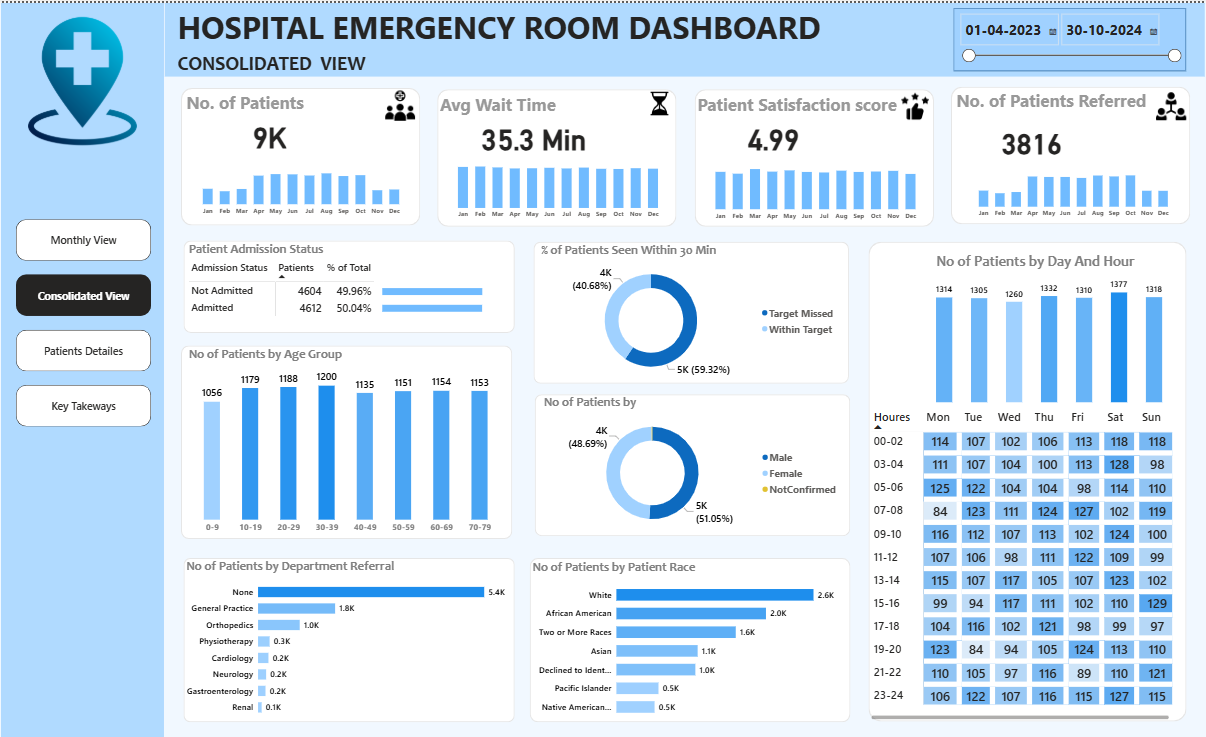

The dashboard page shown, as its layout file describes it:
{"tool":"powerbi","page":{"name":"Consolidated View","canvas":[2300,1400],"ordinal":1},"visuals":[{"type":"shape","box":[9.9,0,310,1400.5],"z":0},{"type":"shape","box":[321,0,1978.3,140.3],"z":1000},{"type":"textbox","box":[340,0,1265,140.3],"z":2000},{"type":"textbox","box":[340,87.5,412.5,70],"z":3000},{"type":"slicer","fields":{"Values":["Date Table.Date"]},"box":[1822.5,10,442.5,120],"z":4000},{"type":"shape","box":[351.4,160.7,455,261.6],"z":5000},{"type":"cardVisual","fields":{"Data":["Hospital ER_Data.No of Patients"]},"box":[460,197.5,400,117.5],"z":6000},{"type":"textbox","box":[356.2,160.7,323.4,59.4],"z":7000},{"type":"columnChart","fields":{"Y":["Hospital ER_Data.No of Patients"],"Category":["Date Table.Month Name"]},"box":[375,282.5,410,130],"z":8000},{"type":"shape","box":[839.8,163.1,455,261.6],"z":9000},{"type":"textbox","box":[839.3,166.4,323.4,59.4],"z":10000},{"type":"columnChart","fields":{"Y":["Avg(Hospital ER_Data.Patient Waittime)"],"Category":["Date Table.Month Name"]},"box":[860,290,417.5,130],"z":11000},{"type":"shape","box":[1328.2,165,455,261.6],"z":12000},{"type":"textbox","box":[1330,167.5,452.5,57.5],"z":13000},{"type":"columnChart","fields":{"Category":["Date Table.Month Name"],"Y":["Hospital ER_Data.Satisfacton Score"]},"box":[1350,292.5,417.5,130],"z":14000},{"type":"shape","box":[1816.6,159.3,455,261.6],"z":15000},{"type":"textbox","box":[1821.3,159.3,385.2,59.4],"z":16000},{"type":"columnChart","fields":{"Y":["Hospital ER_Data.No of Patients Referred"],"Category":["Date Table.Month Name"]},"box":[1852.5,287.5,395,130],"z":17000},{"type":"cardVisual","fields":{"Data":["Hospital ER_Data.Avg Wait Time"]},"box":[895,215,735,92.5],"z":18000},{"type":"cardVisual","fields":{"Data":["Hospital ER_Data.Satisfacton Score"]},"box":[1400,207.5,452.5,105],"z":19000},{"type":"cardVisual","fields":{"Data":["Hospital ER_Data.No of Patients Referred"]},"box":[1890,177.5,407.5,175],"z":20000},{"type":"shape","box":[357.1,451.3,630.1,176],"z":21000},{"type":"pivotTable","title":"Patient Admission Status","fields":{"Rows":["Hospital ER_Data.Admission Status"],"Values":["Hospital ER_Data.No of Patients1","Hospital ER_Data.No of Patients"]},"box":[362.5,452.5,630,175],"z":22000},{"type":"barChart","fields":{"Category":["Hospital ER_Data.Admission Status"],"Y":["Hospital ER_Data.No of Patients"]},"box":[730,512.5,257.5,97.5],"z":23000},{"type":"shape","box":[352.5,652.5,630,368],"z":24000},{"type":"clusteredColumnChart","fields":{"Category":["Hospital ER_Data.Age Group"],"Y":["Hospital ER_Data.No of Patients"]},"box":[362.5,652.5,610,367.5],"z":25000},{"type":"shape","box":[357.5,1055,630,312.5],"z":26000},{"type":"clusteredBarChart","fields":{"Category":["Hospital ER_Data.Department Referral"],"Y":["Hospital ER_Data.No of Patients"]},"box":[357.5,1055,625,312.5],"z":27000},{"type":"shape","box":[1021.5,454.5,600,270],"z":28000},{"type":"donutChart","title":"% of Patients Seen Within 30 Min","fields":{"Category":["Hospital ER_Data.Waittime Status"],"Y":["Hospital ER_Data.No of Patients"]},"box":[1031.5,454.5,575,270],"z":29000},{"type":"shape","box":[1025.5,744.5,600,270],"z":30000},{"type":"donutChart","title":"No of Patients by ","fields":{"Y":["Hospital ER_Data.No of Patients"],"Category":["Hospital ER_Data.Patient Gender"]},"box":[1036.5,744.5,575,270],"z":31000},{"type":"shape","box":[1015,1055,610,312.5],"z":32000},{"type":"clusteredBarChart","fields":{"Y":["Hospital ER_Data.No of Patients"],"Category":["Hospital ER_Data.Patient Race"]},"box":[1015,1057.5,607.5,312.5],"z":33000},{"type":"shape","box":[1660,455,605,912.5],"z":34000},{"type":"pivotTable","fields":{"Columns":["Date Table.Day Name"],"Rows":["Hospital ER_Data.Waittime Interval"],"Values":["Hospital ER_Data.No of Patients"]},"box":[1660,765,582.5,602.5],"z":35000},{"type":"columnChart","title":"No of Patients by Day And Hour","fields":{"Category":["Date Table.Day Name"],"Y":["Hospital ER_Data.No of Patients"]},"box":[1782.5,472.5,442.5,292.5],"z":36000},{"type":"image","box":[35,25,257.5,245],"z":37000},{"type":"image","box":[730,167.5,77.5,57.5],"z":38000},{"type":"image","box":[1230,170,65,45],"z":39000},{"type":"image","box":[2207.5,167.5,57.5,60],"z":40000},{"type":"image","box":[1715,167.5,67.5,60],"z":41000},{"type":"pageNavigator","box":[37.5,412.5,257.5,395],"z":42000}]}

Visuals, with their boxes in screenshot pixels (x1, y1, x2, y2), scaled from the page's 2300x1400 canvas onto the 1206x737 screenshot:
shape: 5 0 168 736
shape: 168 0 1205 74
textbox: 178 0 842 74
textbox: 178 46 395 83
slicer - Date Table.Date: 956 5 1188 68
shape: 184 85 423 222
cardVisual - Hospital ER_Data.No of Patients: 241 104 451 166
textbox: 187 85 356 116
columnChart - Hospital ER_Data.No of Patients x Date Table.Month Name: 197 149 412 217
shape: 440 86 679 224
textbox: 440 88 610 119
columnChart - Avg(Hospital ER_Data.Patient Waittime) x Date Table.Month Name: 451 153 670 221
shape: 696 87 935 225
textbox: 697 88 935 118
columnChart - Date Table.Month Name x Hospital ER_Data.Satisfacton Score: 708 154 927 222
shape: 953 84 1191 222
textbox: 955 84 1157 115
columnChart - Hospital ER_Data.No of Patients Referred x Date Table.Month Name: 971 151 1178 220
cardVisual - Hospital ER_Data.Avg Wait Time: 469 113 855 162
cardVisual - Hospital ER_Data.Satisfacton Score: 734 109 971 165
cardVisual - Hospital ER_Data.No of Patients Referred: 991 93 1205 186
shape: 187 238 518 330
"Patient Admission Status" pivotTable: 190 238 520 330
barChart - Hospital ER_Data.Admission Status x Hospital ER_Data.No of Patients: 383 270 518 321
shape: 185 343 515 537
clusteredColumnChart - Hospital ER_Data.Age Group x Hospital ER_Data.No of Patients: 190 343 510 537
shape: 187 555 518 720
clusteredBarChart - Hospital ER_Data.Department Referral x Hospital ER_Data.No of Patients: 187 555 515 720
shape: 536 239 850 381
"% of Patients Seen Within 30 Min" donutChart: 541 239 842 381
shape: 538 392 852 534
"No of Patients by " donutChart: 543 392 845 534
shape: 532 555 852 720
clusteredBarChart - Hospital ER_Data.No of Patients x Hospital ER_Data.Patient Race: 532 557 851 721
shape: 870 240 1188 720
pivotTable - Date Table.Day Name x Hospital ER_Data.Waittime Interval: 870 403 1176 720
"No of Patients by Day And Hour" columnChart: 935 249 1167 403
image: 18 13 153 142
image: 383 88 423 118
image: 645 89 679 113
image: 1157 88 1188 120
image: 899 88 935 120
pageNavigator: 20 217 155 425
